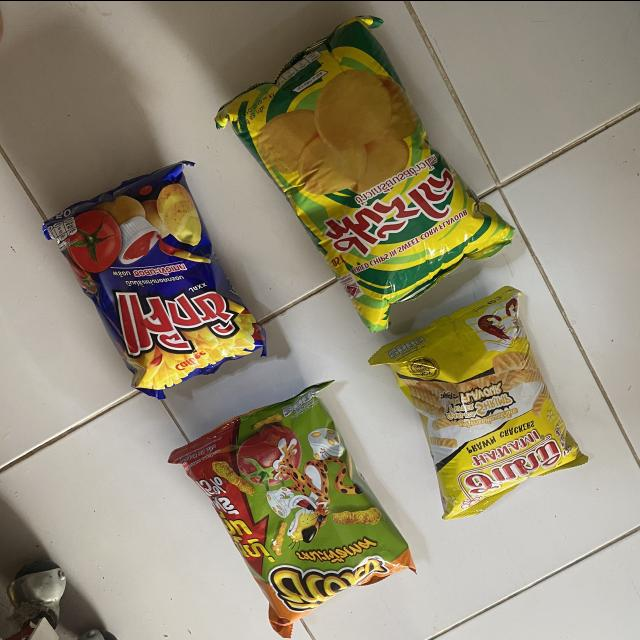plastik: (216, 14, 514, 330), (169, 382, 414, 636), (42, 160, 265, 397), (370, 285, 587, 519)
